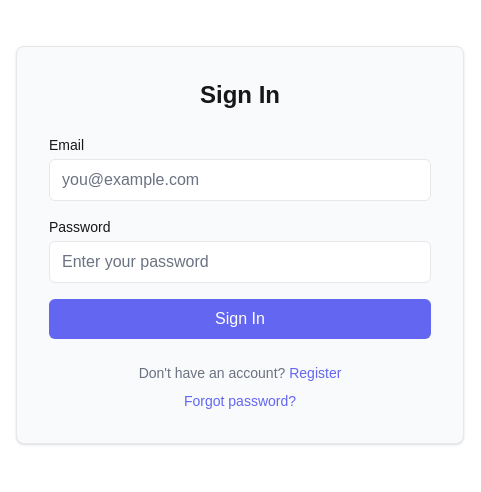
LoginPage › displays account locked error (423)
Type "locked@test.com" into the field labelled "Email" at (240, 180), box [49,159,431,201]
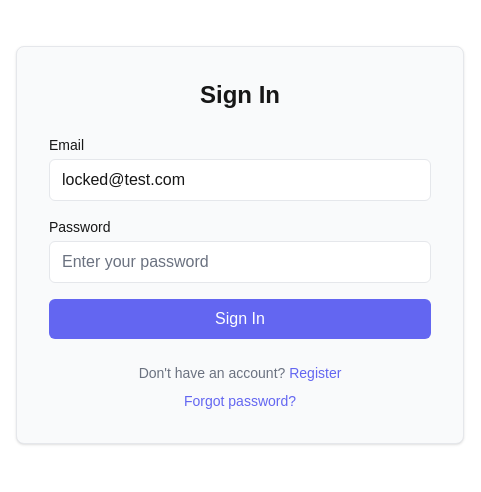
Type "pass" into the password field labelled "Password" at (240, 262), box [49,241,431,283]
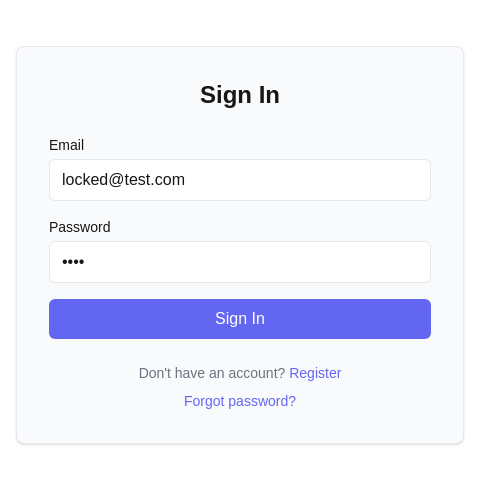
Click the button "Sign In" at (240, 319), box [49,299,431,339]
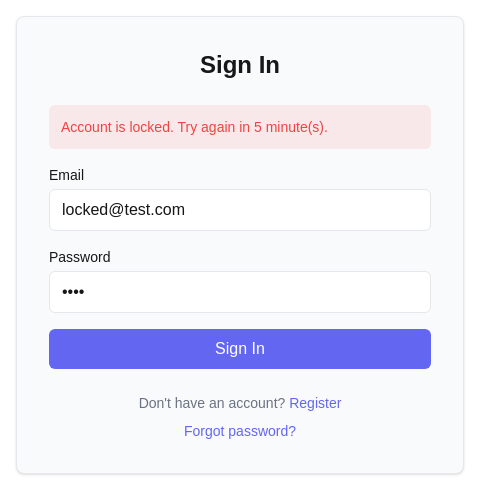
expect the text "Account is locked. Try again in 5 minute(s)." is shown: met, box [49,105,431,149]
